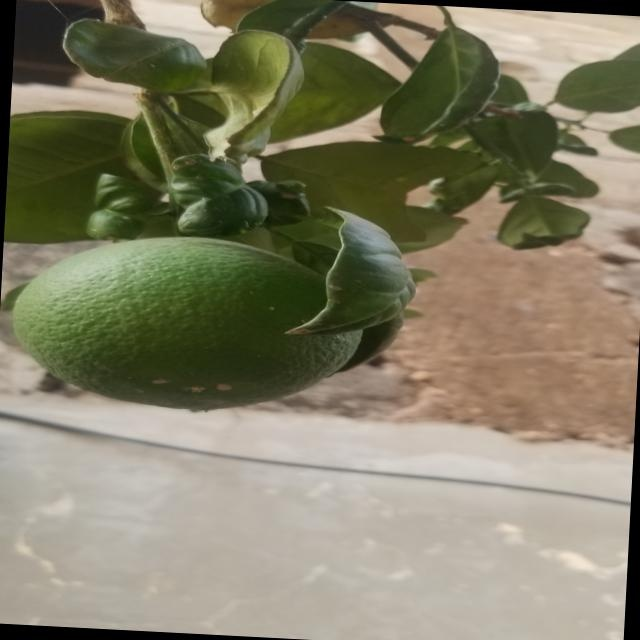agrume: (4, 222, 376, 431)
